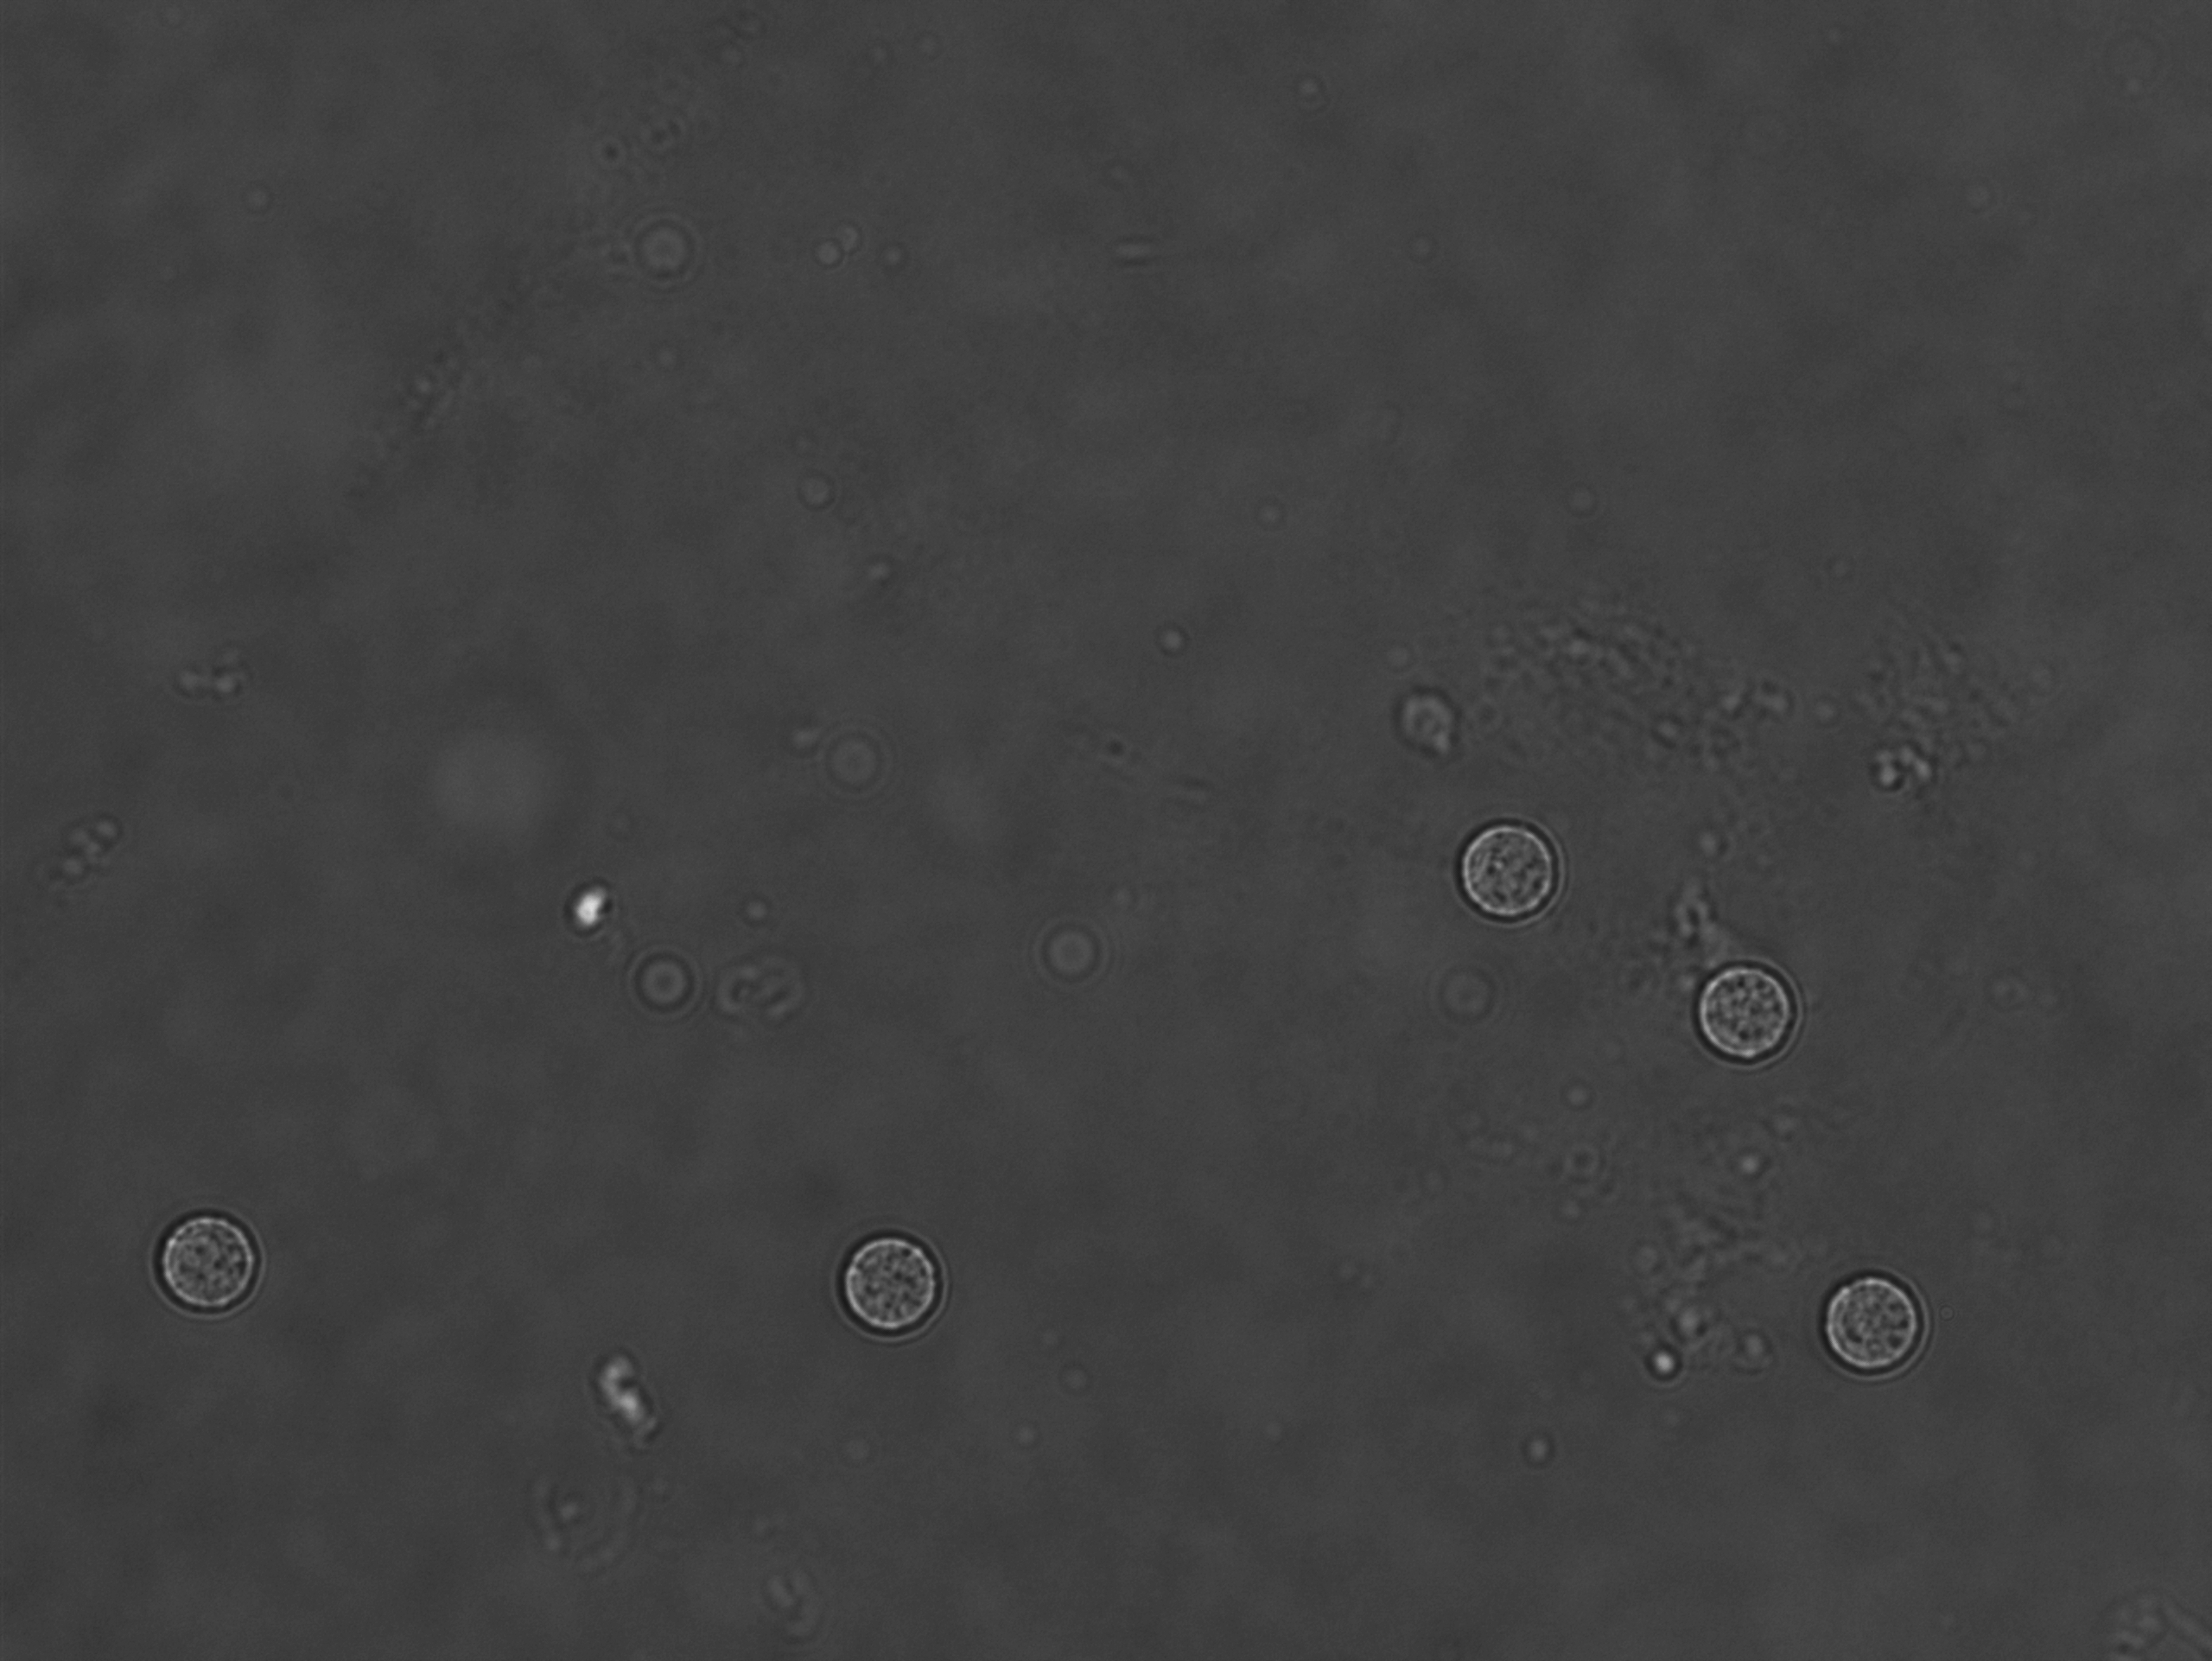depth:0: (1420, 764, 1600, 937), (1659, 919, 1825, 1089), (1792, 1230, 1947, 1394), (136, 1186, 281, 1333), (816, 1200, 958, 1340)
